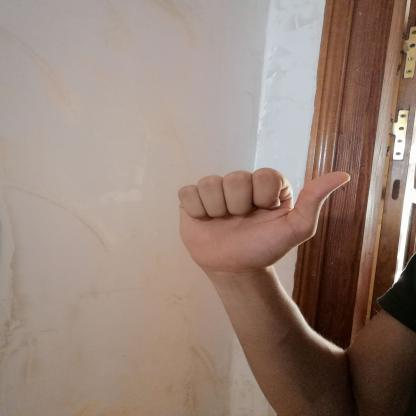DAD: (163, 157, 362, 281)
